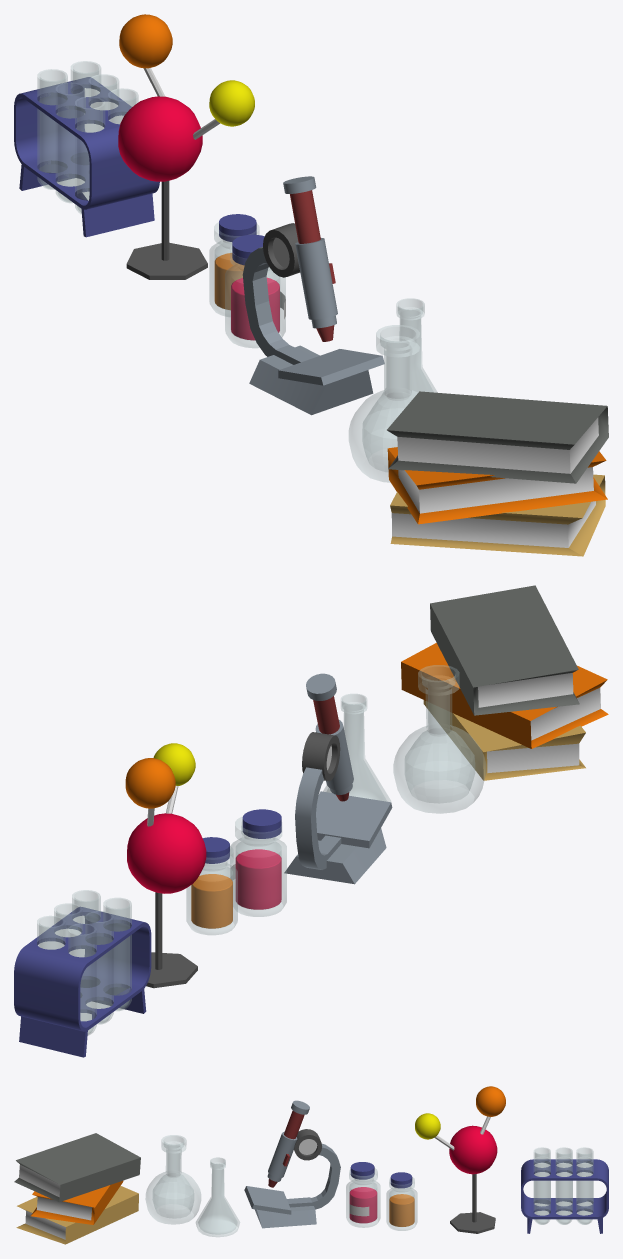
File: materiel_placard_01.fbx
3 views of the same model, one above another, from view 1: azimuth 30°, elevation 25°; view 2: azimuth 150°, elevation 25°; view 3: azimuth 270°, elevation 25° (orthographic). The views are drawn at different scales.
Visible parts, largest first — view 1: pCylinder4; view 2: pCylinder4; view 3: pCylinder4.
Part boxes in pixels (<box>): pCylinder4: <box>14,14,608,556</box>; pCylinder4: <box>14,585,608,1057</box>; pCylinder4: <box>14,1086,608,1244</box>.
Size of the model in its own units: 190 by 225 by 889.
